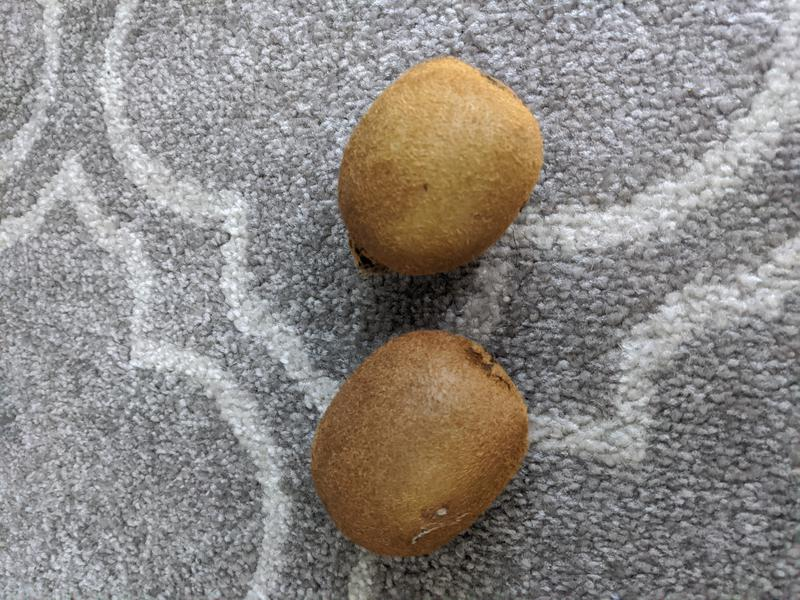kiwi: (309, 329, 529, 557), (338, 56, 543, 278)
